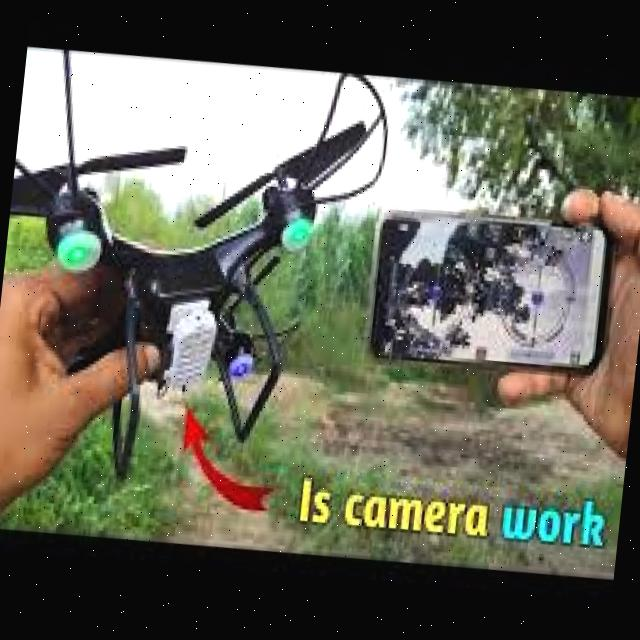drone: (0, 11, 391, 502)
